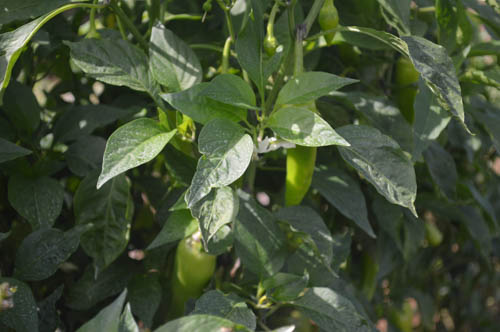ChiliPepper: (168, 238, 212, 315), (286, 145, 317, 214), (392, 58, 415, 115)
